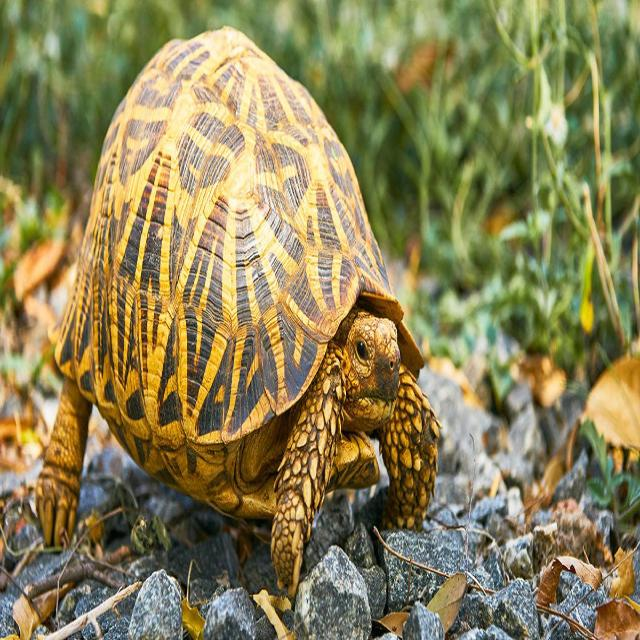turtle: (139, 115, 441, 570)
